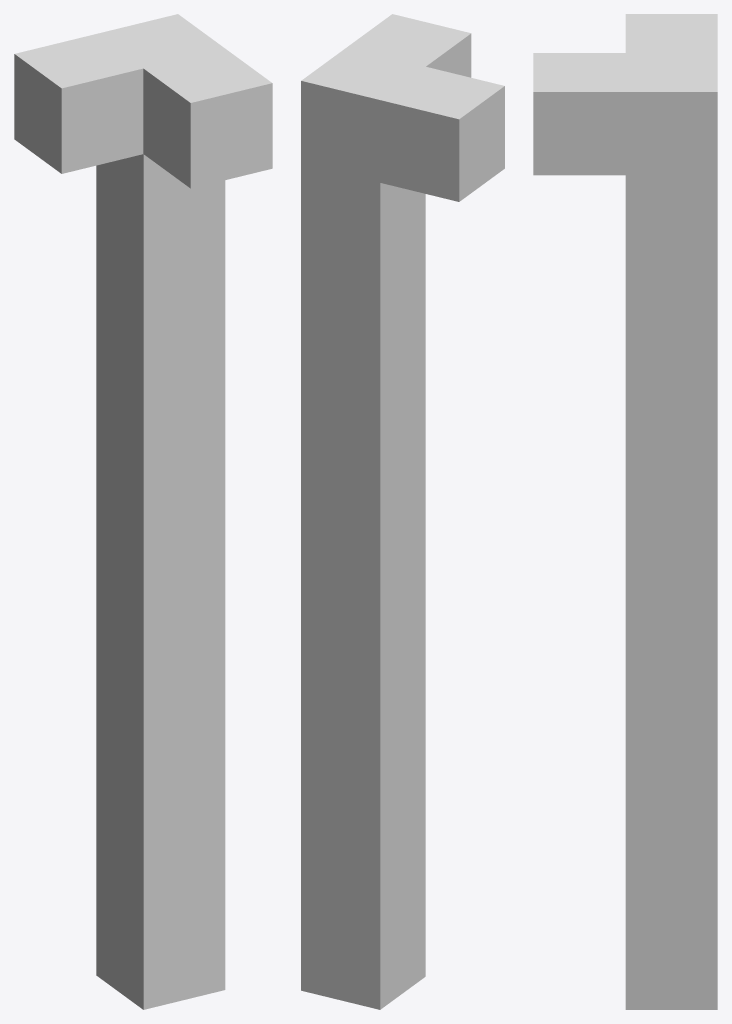
File: YellowHouseParts-62.obj
The picture shows the model from 3 angles, left to right: view 1: azimuth 30°, elevation 25°; view 2: azimuth 150°, elevation 25°; view 3: azimuth 270°, elevation 25°; orthographic projection. The views are drawn at different scales.
Size of the model in its own units: 0.2 by 1.1 by 0.2.
1 material, 1 textured.
